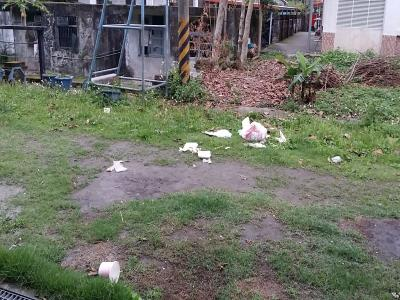bowl: (97, 259, 122, 284)
plastic_bag: (237, 114, 270, 142)
